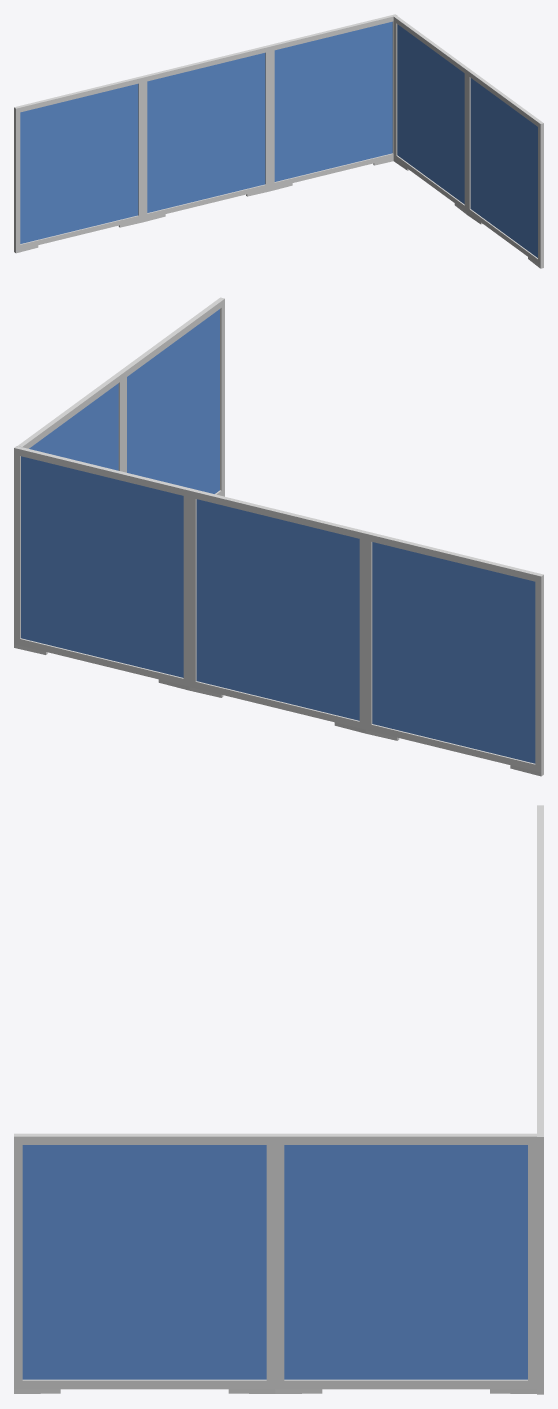
Rendered from partition_big.fbx.
The picture shows the model from 3 angles, top to bottom: view 1: azimuth 30°, elevation 25°; view 2: azimuth 150°, elevation 25°; view 3: azimuth 270°, elevation 25°; orthographic projection. The views are drawn at different scales.
Parts seen in each view (by area): view 1: Cube.002, Cube.001; view 2: Cube.002, Cube.001; view 3: Cube.001, Cube.002.
Boxes of the visible parts, left/top/right/bottom form: Cube.002: left=14, top=14, right=397, bottom=253; Cube.001: left=393, top=16, right=543, bottom=268; Cube.002: left=14, top=446, right=543, bottom=776; Cube.001: left=18, top=297, right=224, bottom=496; Cube.001: left=14, top=1133, right=536, bottom=1393; Cube.002: left=537, top=805, right=543, bottom=1394.
Size of the model in its own units: 450 by 163 by 304.
